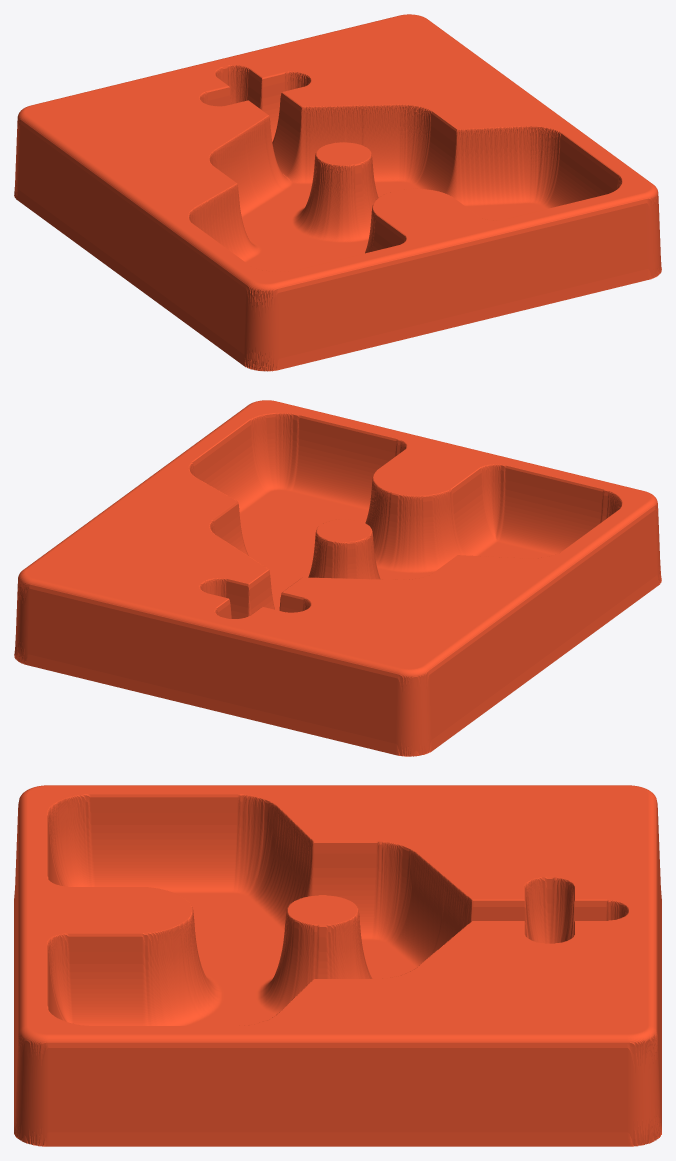
The model's file is mold.glb.
3 views of the same model, one above another, from view 1: azimuth 30°, elevation 25°; view 2: azimuth 150°, elevation 25°; view 3: azimuth 270°, elevation 25° (orthographic). The views are drawn at different scales.
Visible parts, largest first — view 1: geometry_0; view 2: geometry_0; view 3: geometry_0.
Part boxes in pixels (x1,y1,x2,y2): geometry_0: (14, 14, 661, 371); geometry_0: (14, 400, 661, 756); geometry_0: (14, 785, 661, 1146).
Size of the model in its own units: 0.1621 by 0.031 by 0.1709.
